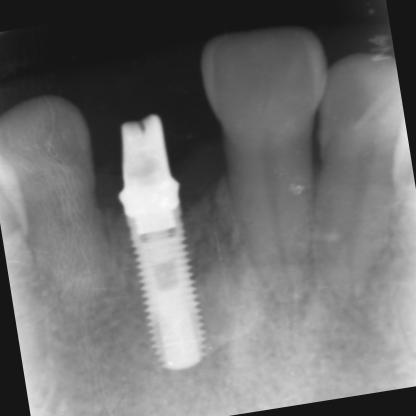Bego: (88, 211, 235, 394)
